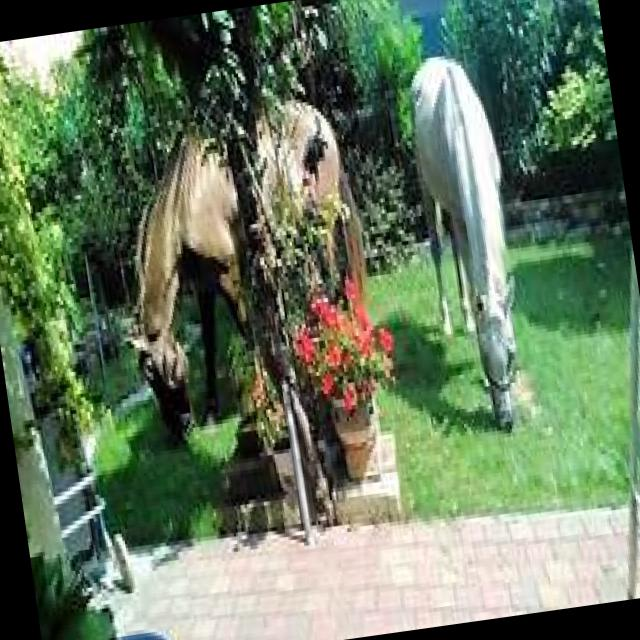animal: (113, 102, 379, 439), (400, 46, 538, 437)
